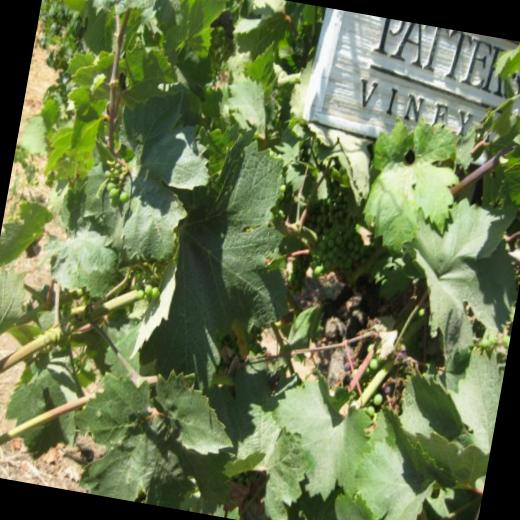Orange: (284, 175, 380, 303), (271, 182, 294, 218), (372, 392, 384, 406), (119, 191, 129, 204), (366, 405, 376, 417), (109, 194, 117, 207), (369, 360, 379, 370), (108, 188, 118, 197), (136, 290, 145, 300), (151, 286, 159, 296), (351, 368, 359, 378), (368, 341, 374, 352), (146, 284, 151, 292)
